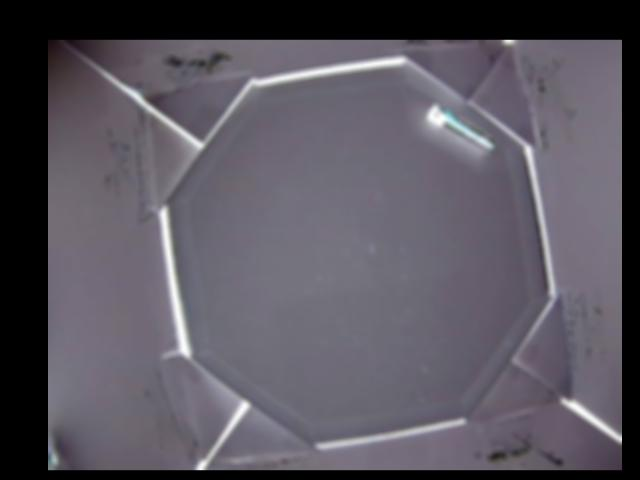Battery: (425, 102, 495, 151)
